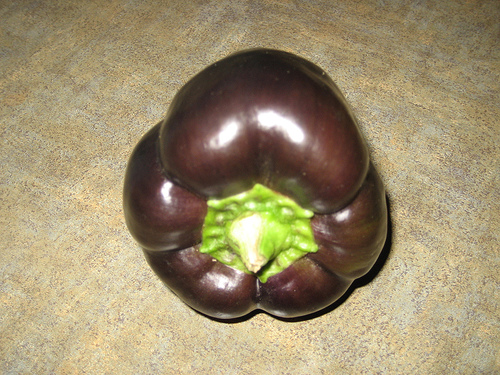capsicum: (119, 44, 395, 326)
